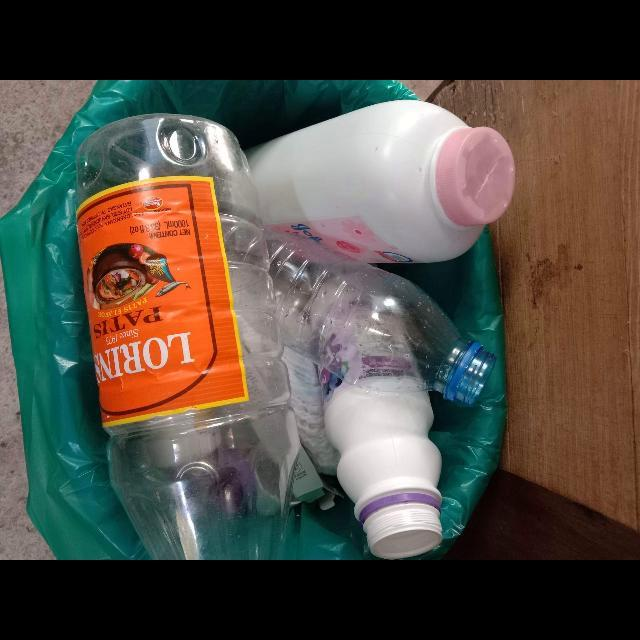plastic_bottle: (73, 114, 299, 560), (247, 102, 515, 266), (266, 229, 497, 409), (303, 271, 443, 559)
